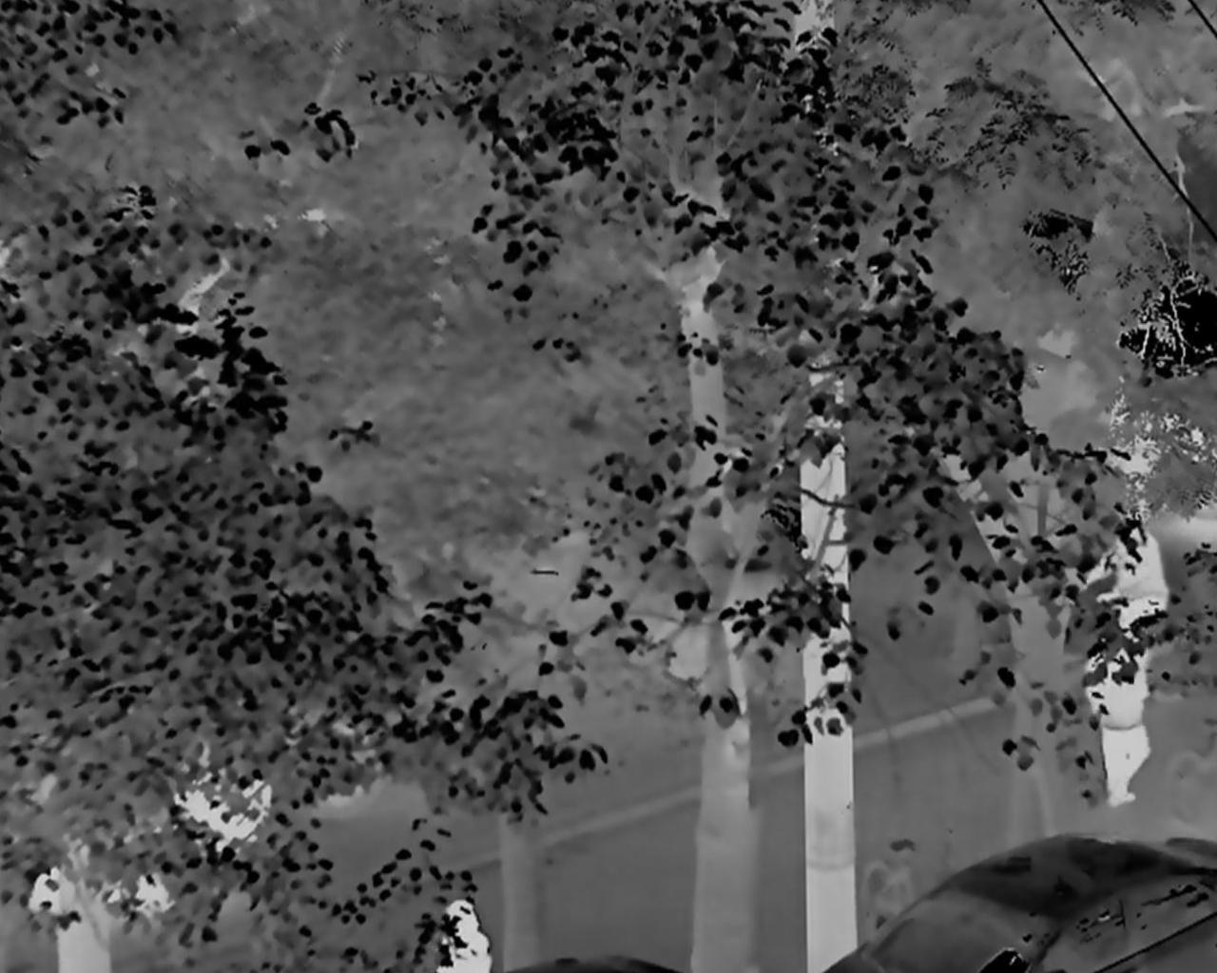person: (1082, 505, 1175, 690), (1086, 618, 1156, 809)
